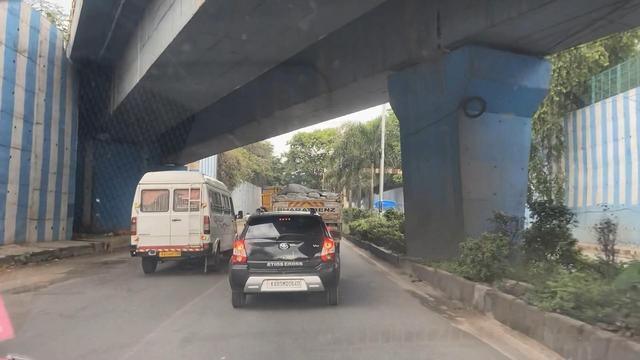HMV: (129, 170, 234, 276), (260, 185, 346, 261)
LMV: (230, 208, 345, 310)
